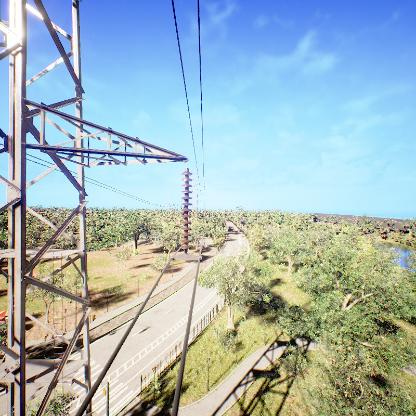insulator: (179, 169, 193, 253)
